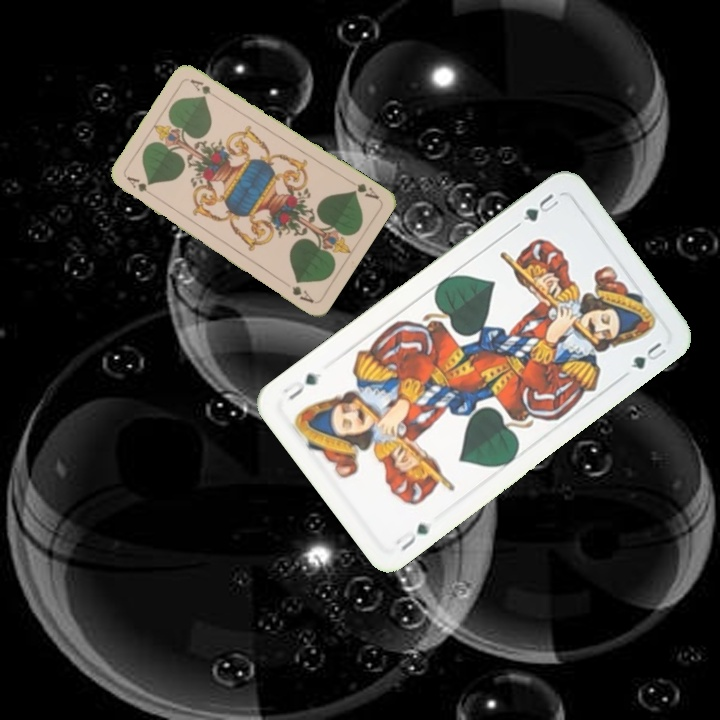GA: (122, 172, 158, 201), (349, 179, 382, 202)
GU: (391, 518, 435, 554), (519, 189, 562, 224)
